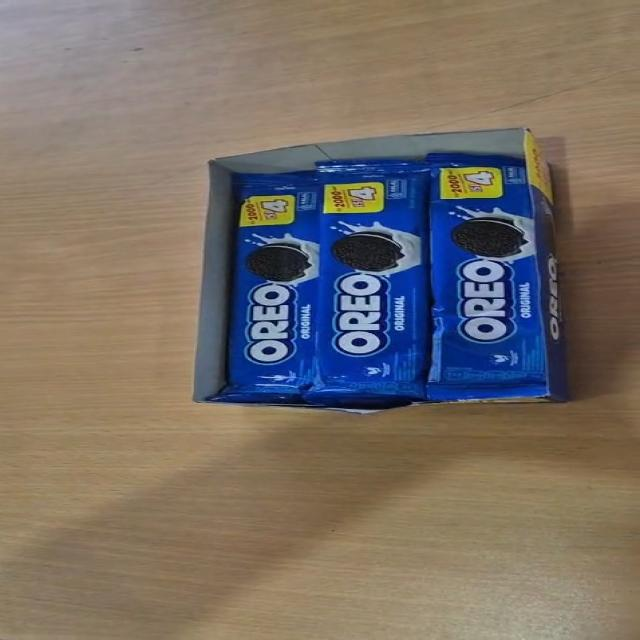Oreo: (302, 160, 432, 409), (427, 152, 552, 401), (206, 170, 323, 404)
